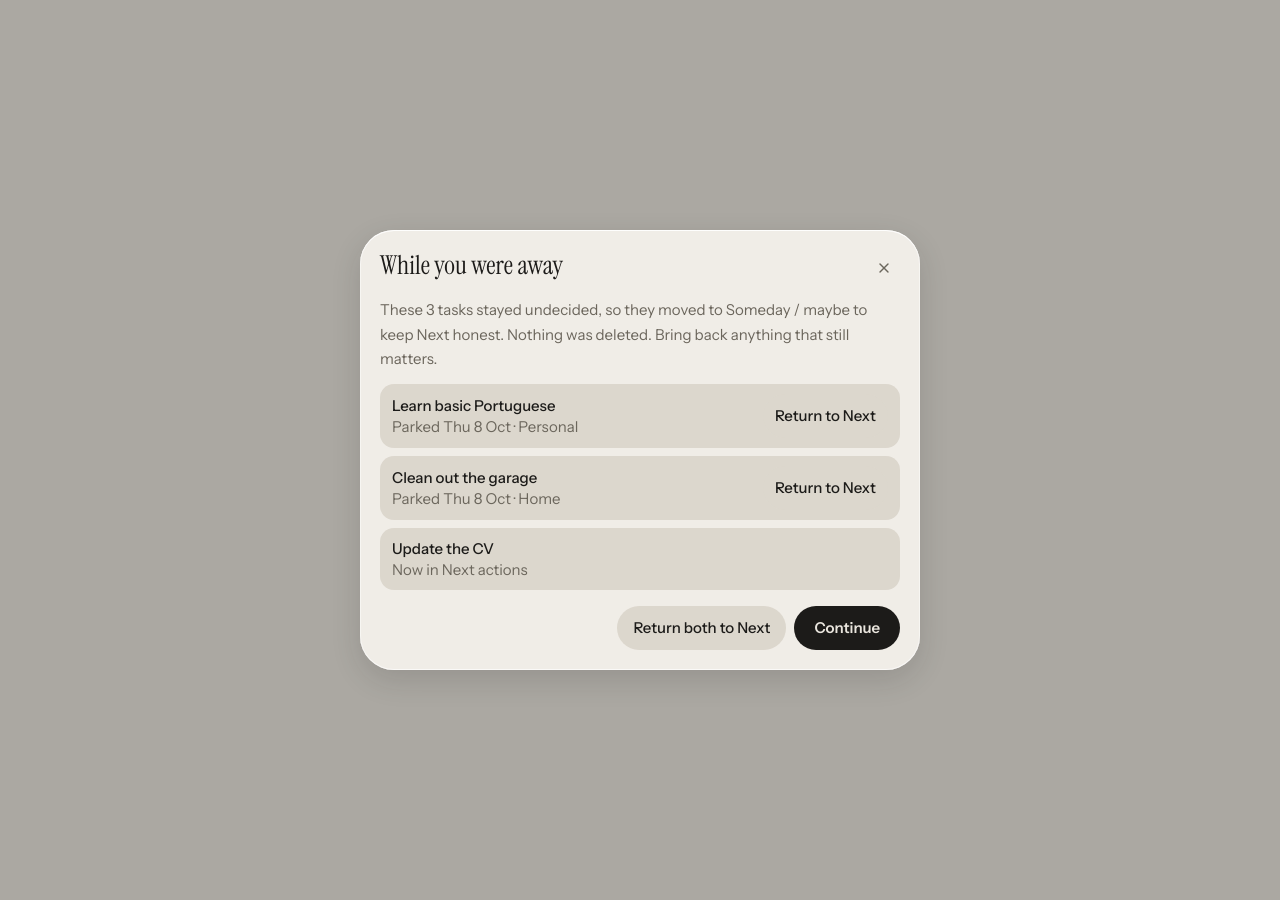
it: 020-FR-015 While you were away dialog › 020-FR-015 Return all skips a task that already left Someday and still says all are back
Click the button "Return both to Next".
click(702, 628)  # box [617, 606, 786, 650]
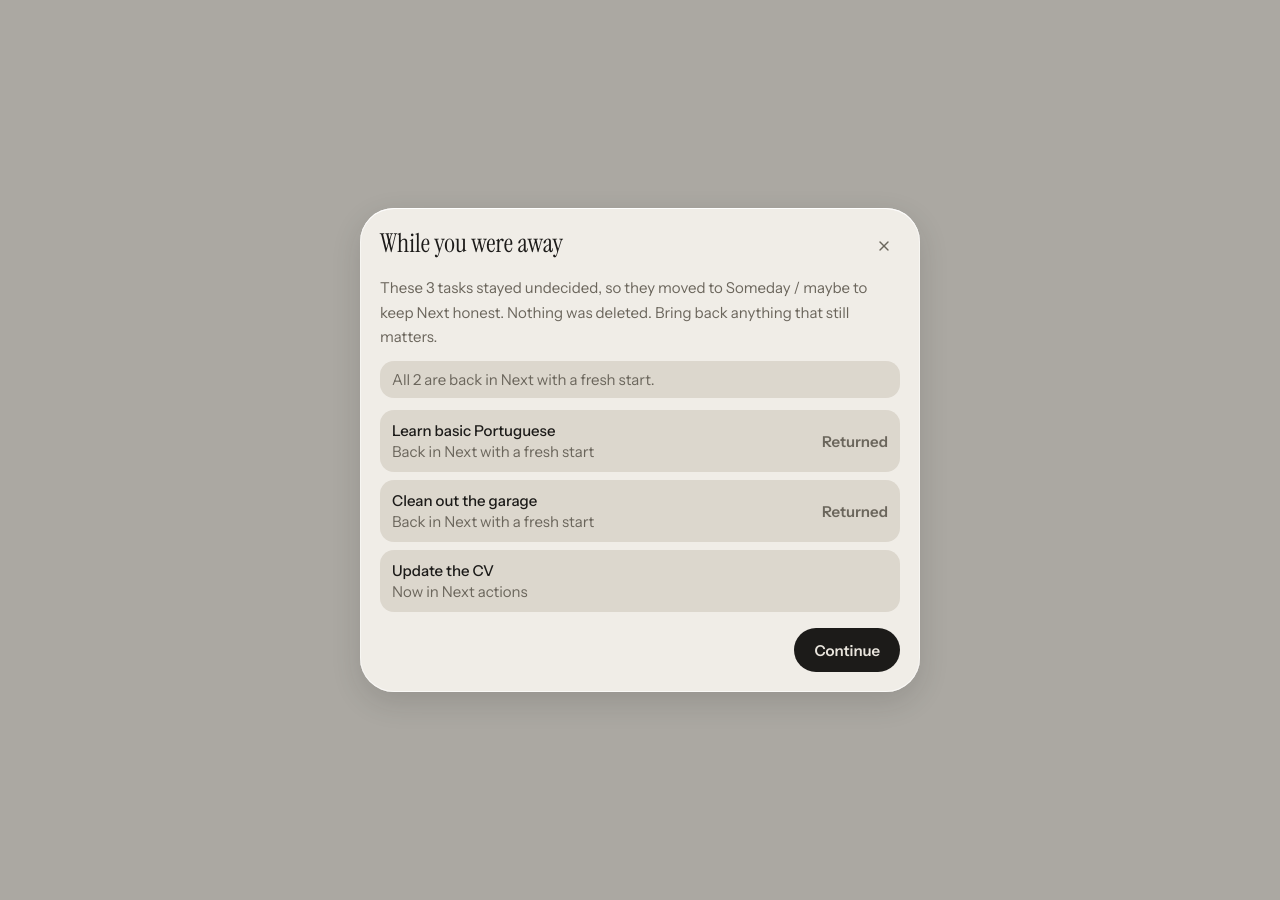
Check: the text "All 2 are back in Next with a fresh start." is shown, box [380, 361, 900, 398]
